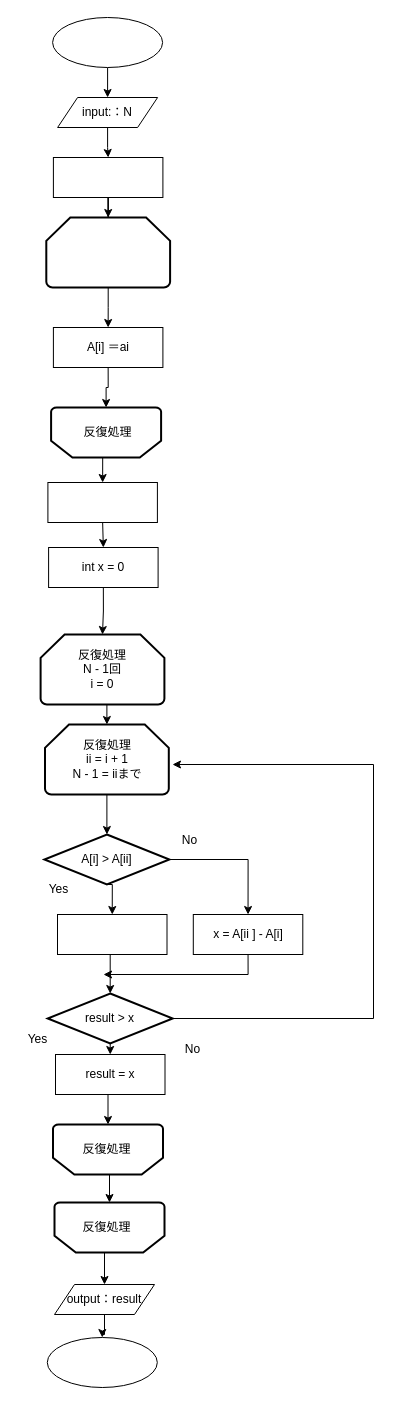
This 399x1405 diagram has some shape labels left out. The shapes that lost their labels are listed below. From the top down, each one's centre as x and y in pixels, then its label:
At (107,42): "開始".
At (107,177): "配列[] A の要素を N個作成".
At (108,252): "反復処理 N回".
At (102,502): "int result を宣言".
At (111,934): "x = A[i ] - A[ii]".
At (101,1362): "終了".
